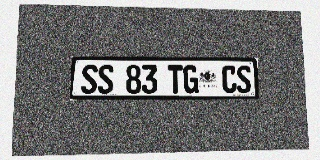3: (142, 65, 157, 94)
8: (126, 65, 141, 94)
C: (222, 65, 237, 93)
G: (183, 65, 198, 93)
S: (81, 64, 98, 94), (98, 64, 114, 94), (236, 65, 251, 93)
T: (168, 65, 183, 93)
